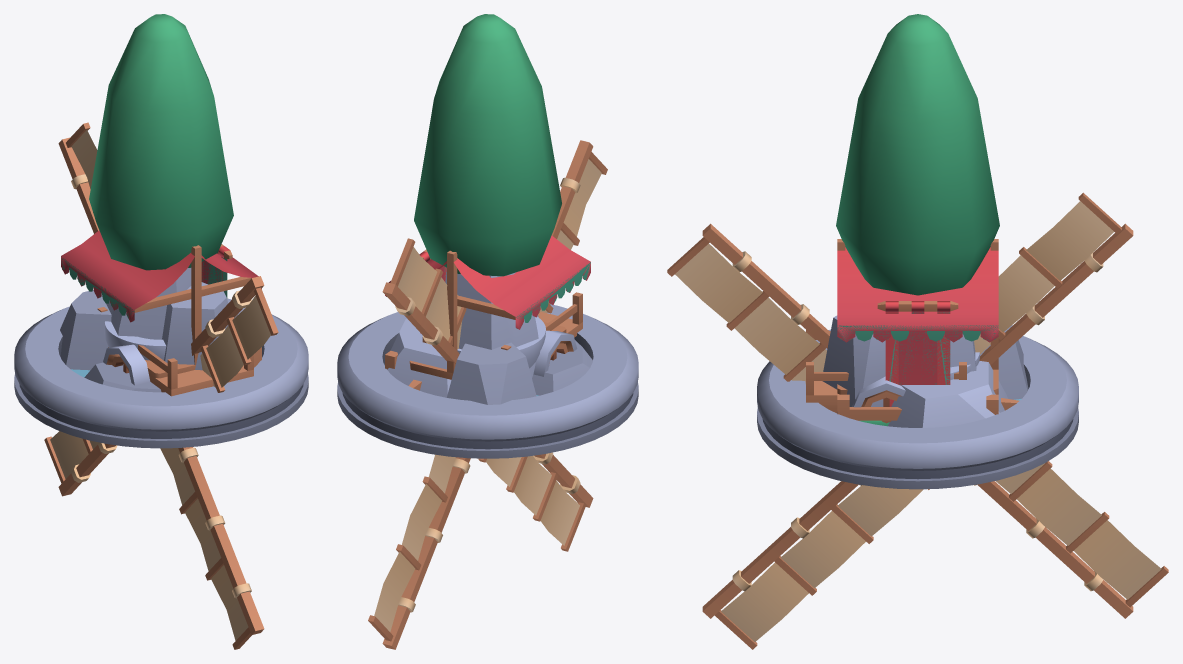
Rendered from town.glb.
The picture shows the model from 3 angles, left to right: view 1: azimuth 30°, elevation 25°; view 2: azimuth 150°, elevation 25°; view 3: azimuth 270°, elevation 25°; orthographic projection. The views are drawn at different scales.
Visible parts, largest first — view 1: tree-high-round, fountain-round-detail, windmill, rock-large, stall-red, cart, Group, stall-green, banner-red; view 2: tree-high-round, fountain-round-detail, windmill, rock-large, stall-red, cart, Group, stall-green; view 3: windmill, tree-high-round, fountain-round-detail, rock-large, stall-red, banner-red, cart, stall-green, fence, Group.
Boxes of the visible parts, x1,y1,x2,y2 form: tree-high-round: [89, 14, 233, 270]; fountain-round-detail: [14, 298, 308, 448]; windmill: [44, 122, 278, 649]; rock-large: [60, 268, 238, 392]; stall-red: [61, 230, 261, 379]; cart: [97, 307, 253, 396]; Group: [103, 344, 150, 385]; stall-green: [61, 256, 134, 321]; banner-red: [201, 244, 232, 284]; tree-high-round: [414, 14, 561, 276]; fountain-round-detail: [337, 304, 638, 458]; windmill: [368, 140, 607, 649]; rock-large: [384, 270, 592, 404]; stall-red: [385, 235, 590, 379]; cart: [408, 292, 582, 390]; Group: [533, 330, 577, 376]; stall-green: [386, 262, 590, 328]; windmill: [667, 192, 1168, 649]; tree-high-round: [836, 14, 999, 295]; fountain-round-detail: [757, 329, 1078, 489]; rock-large: [822, 315, 1028, 427]; stall-red: [837, 239, 998, 394]; banner-red: [877, 301, 958, 406]; cart: [806, 330, 1019, 413]; stall-green: [837, 325, 998, 341]; fence: [837, 394, 998, 420]; Group: [852, 376, 905, 423].
Bounding box in the file's own units: 2 × 4.31 × 3.11.
2 materials, 1 textured.
